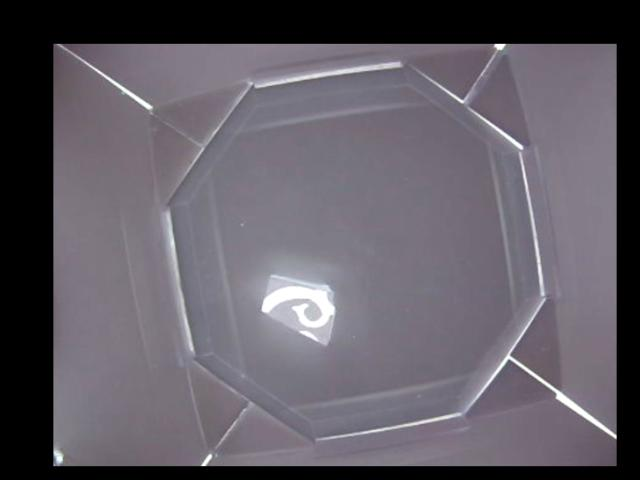China: (261, 274, 337, 344)
